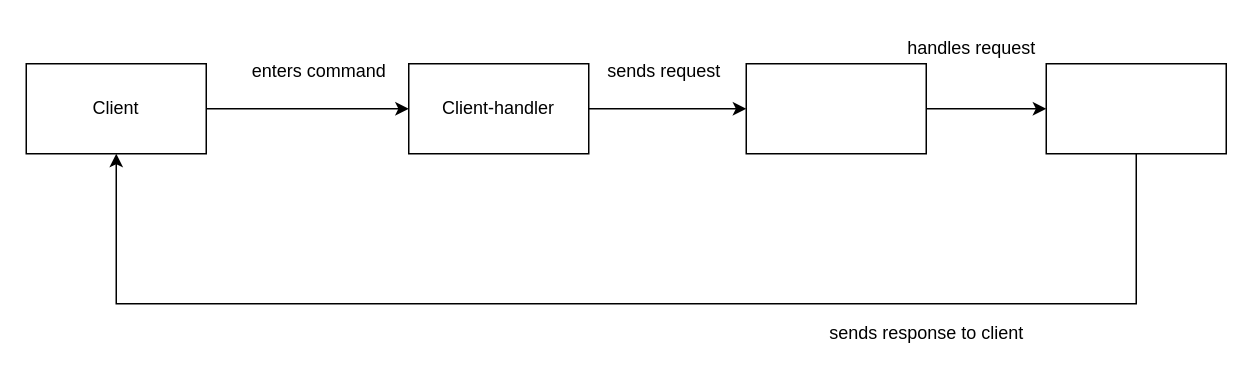
Image size: 1253x381. Some labels were removed from this diagram. The shapes that lost their labels are listed below. From the top down, each one's centre as x and y in pixels, then its label:
[835,108]: Server-handler
[1135,108]: Server
